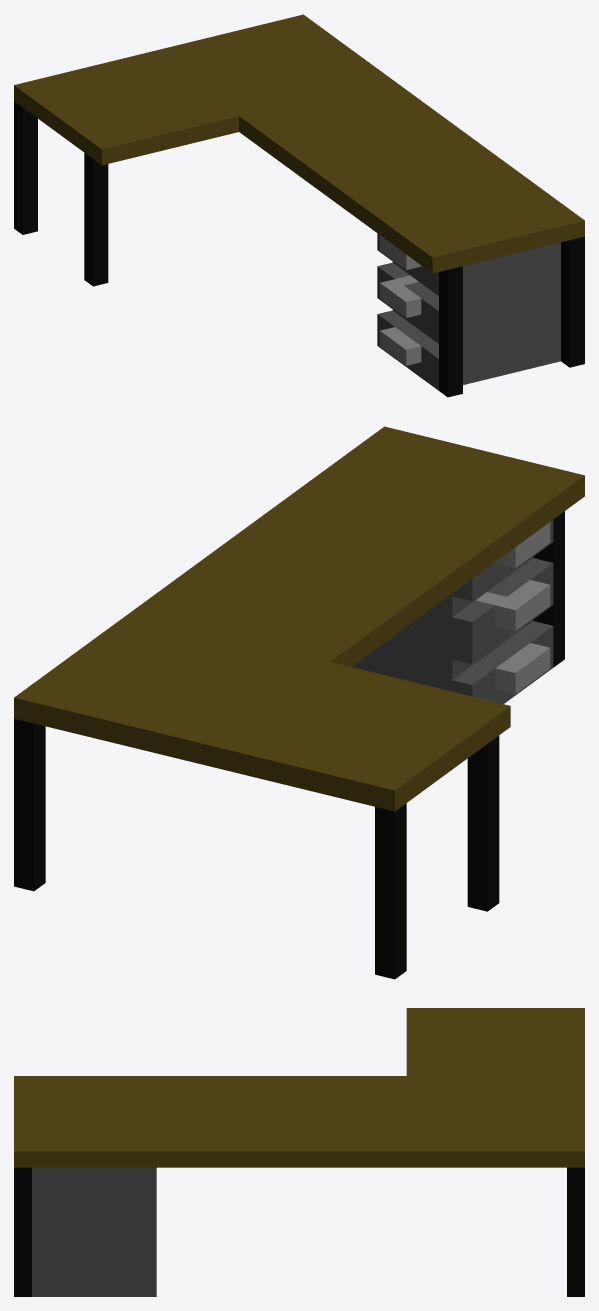
Rendered from Computer table.obj.
The picture shows the model from 3 angles, top to bottom: view 1: azimuth 30°, elevation 25°; view 2: azimuth 150°, elevation 25°; view 3: azimuth 270°, elevation 25°; orthographic projection. The views are drawn at different scales.
Bounding box in the file's own units: 1.9 × 0.9 × 3.2.
Materials: 1 (1 with a texture image).
